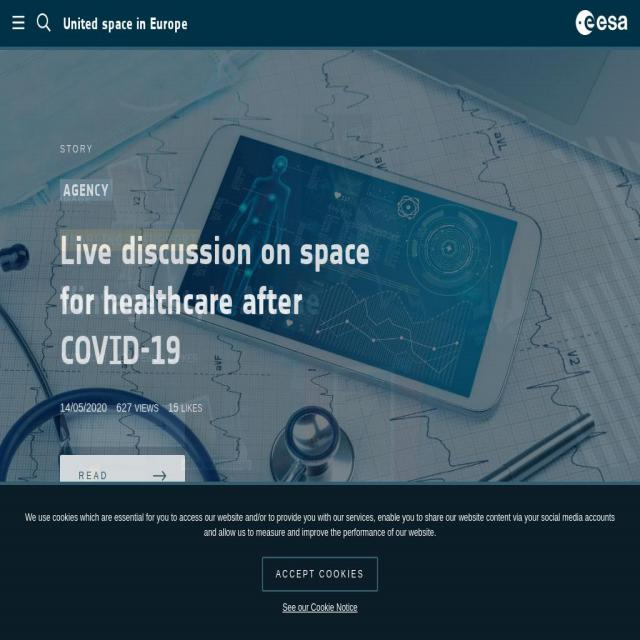options: (9, 7, 30, 36)
search: (34, 12, 56, 38)
